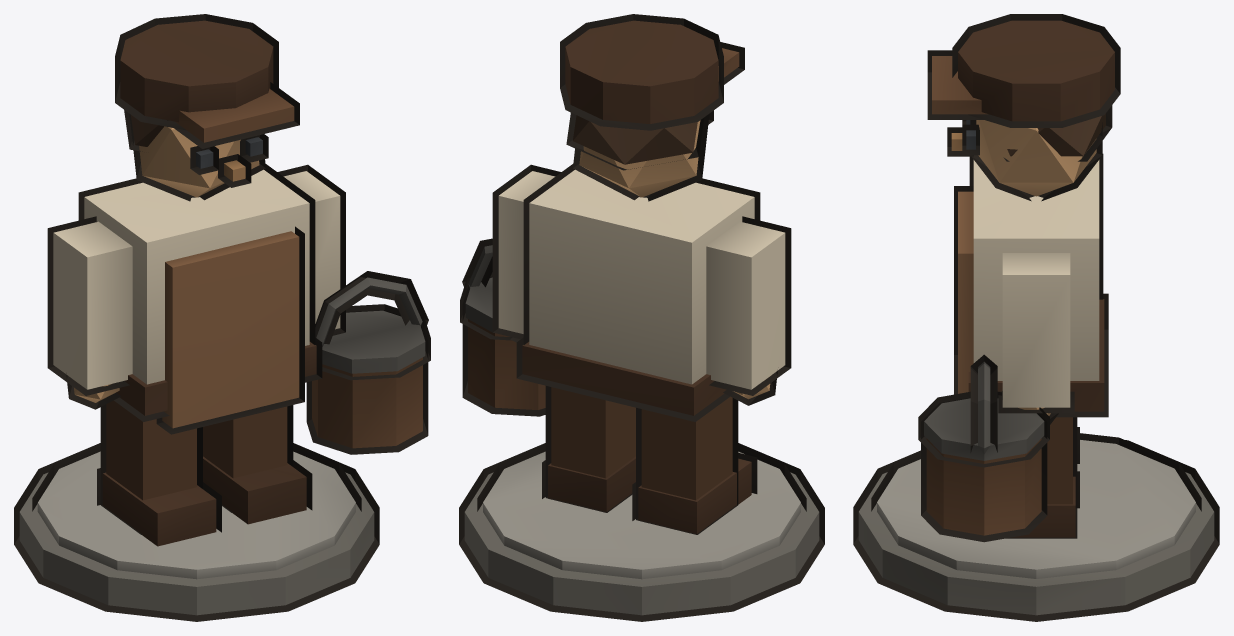
The model's file is pnj_villageois.glb.
3 renders of one model, left to right at view 1: azimuth 30°, elevation 25°; view 2: azimuth 150°, elevation 25°; view 3: azimuth 270°, elevation 25°, orthographic.
Parts seen in each view (by area): view 1: pnj_villageois, pnj_villageois_outline; view 2: pnj_villageois, pnj_villageois_outline; view 3: pnj_villageois, pnj_villageois_outline.
Boxes of the visible parts, x1,y1,x2,y2 form: pnj_villageois: (19,20,425,615); pnj_villageois_outline: (14,14,430,621); pnj_villageois: (464,20,819,615); pnj_villageois_outline: (459,14,824,621); pnj_villageois: (858,20,1214,615); pnj_villageois_outline: (853,14,1219,621).
Bounding box in the file's own units: 0.8066 × 1.05 × 0.7012.
